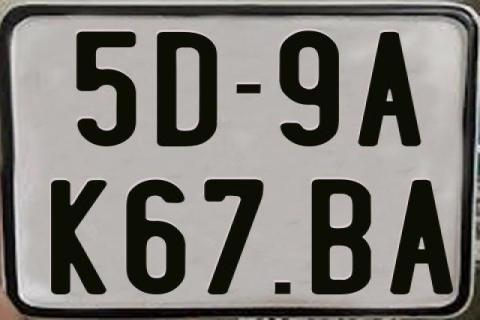0: (278, 30, 344, 148), (204, 178, 268, 294), (126, 180, 188, 298), (73, 31, 134, 148)
A: (357, 29, 420, 149), (389, 180, 453, 296)
B: (308, 177, 368, 293)
D: (157, 32, 221, 150)
K: (51, 180, 107, 294)
